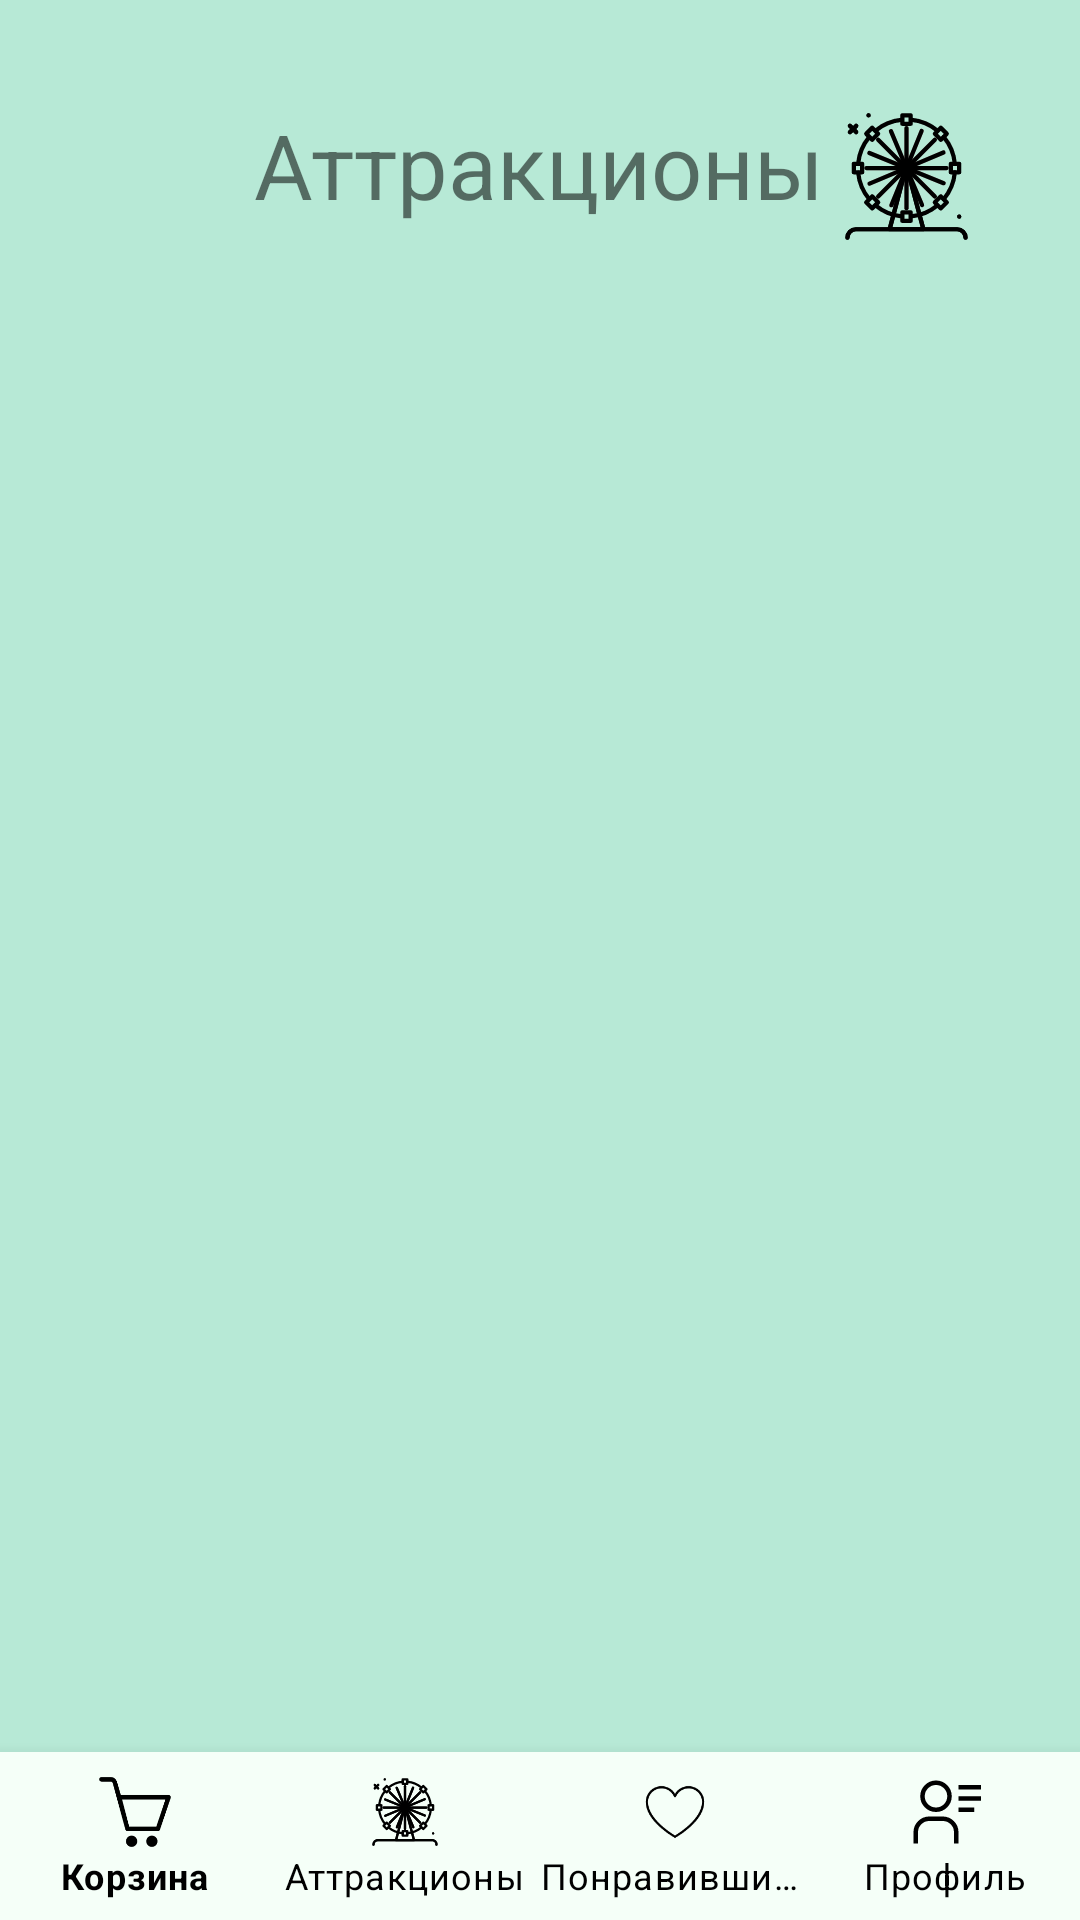

Named icons in this screenshot (1080w x 1920h) and their bounding boxes, rect(x1, y1, x2, y2):
eye wheel: rect(807, 113, 968, 240)
